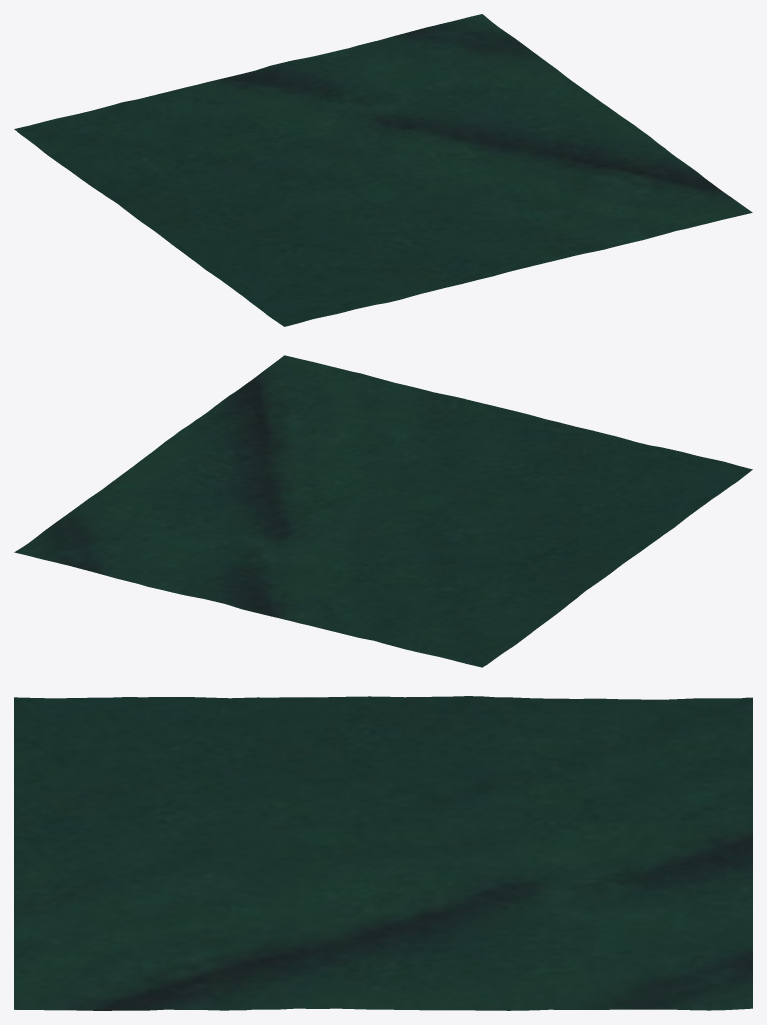
3 views of the same model, one above another, from view 1: azimuth 30°, elevation 25°; view 2: azimuth 150°, elevation 25°; view 3: azimuth 270°, elevation 25° (orthographic). The views are drawn at different scales.
Bounding box in the file's own units: 104 × 0.8893 × 104.
Materials: 2 (2 with a texture image).
